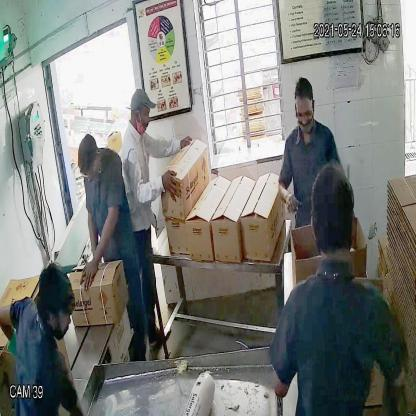goggles: (292, 99, 316, 120)
no_goggles: (133, 107, 151, 125)
